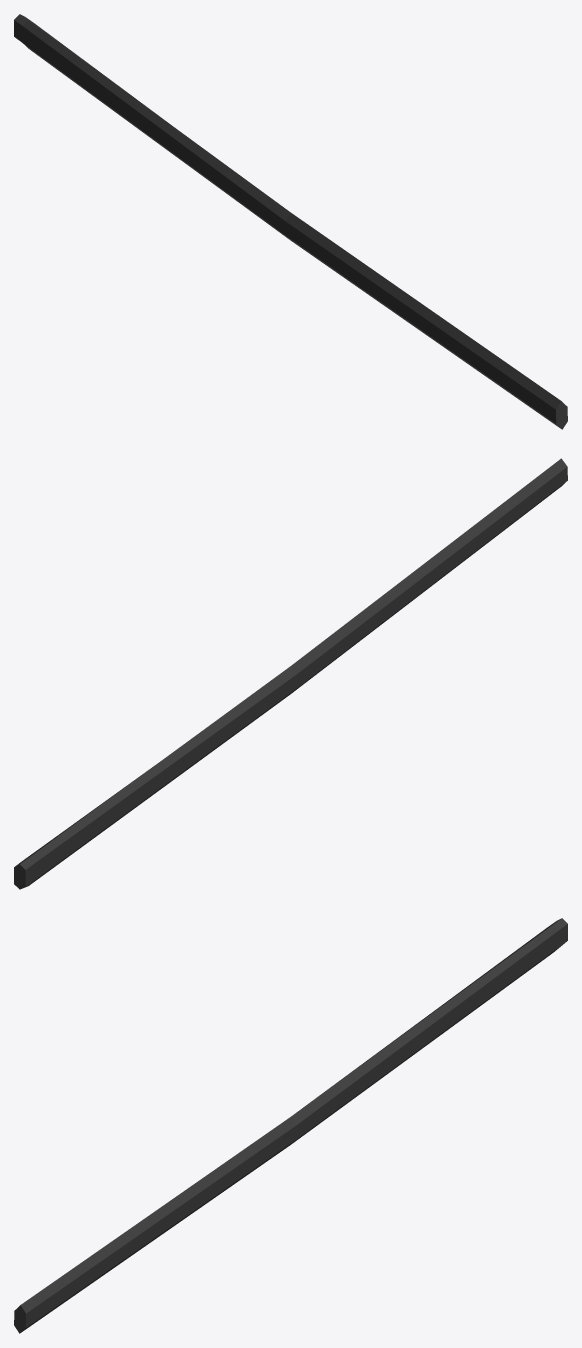
File: sheath.glb
3 renders of one model, top to bottom at view 1: azimuth 30°, elevation 25°; view 2: azimuth 150°, elevation 25°; view 3: azimuth 330°, elevation 25°, orthographic.
Visible parts, largest first — view 1: sheath; view 2: sheath; view 3: sheath.
Boxes of the visible parts, x1,y1,x2,y2 form: sheath: [14, 14, 567, 429]; sheath: [14, 458, 567, 889]; sheath: [14, 918, 567, 1333].
Size of the model in its own units: 0.0124 by 0.0384 by 1.
Materials: 1 (1 with a texture image).
